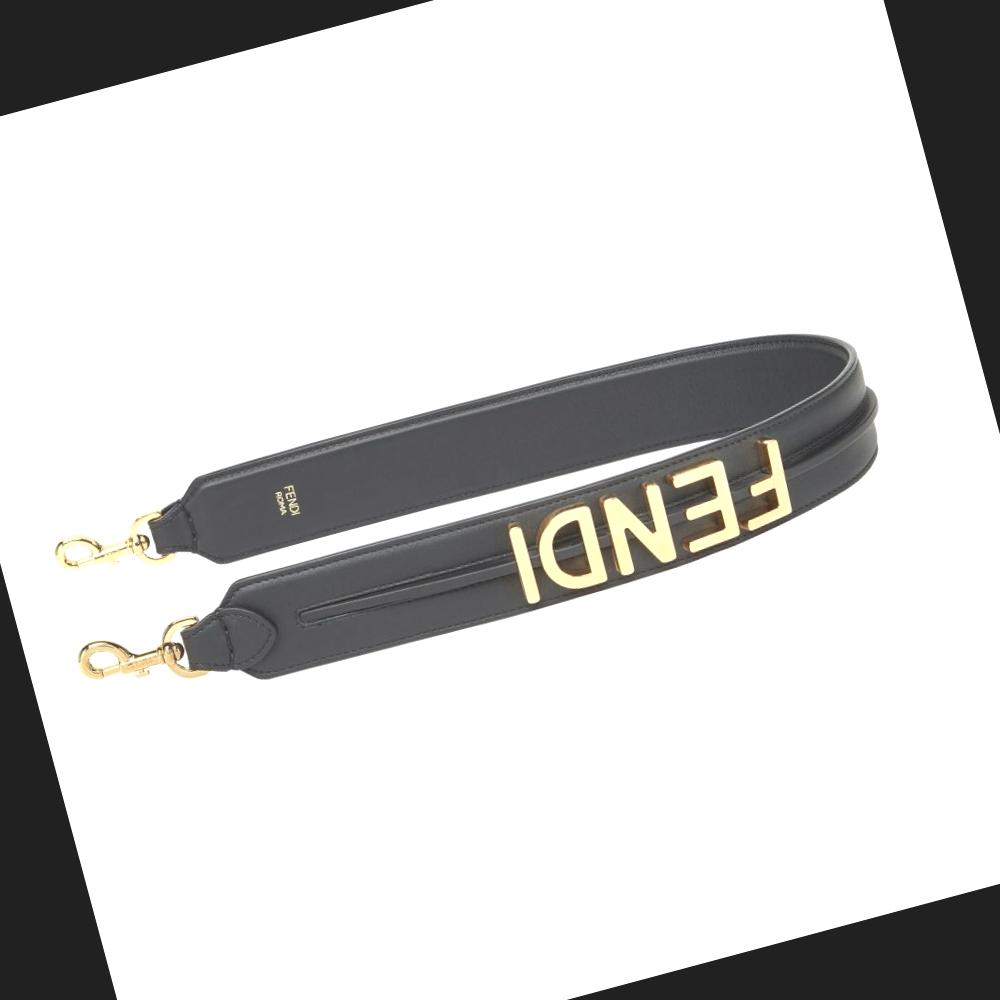FENDI: (500, 436, 801, 606), (282, 484, 301, 518)
